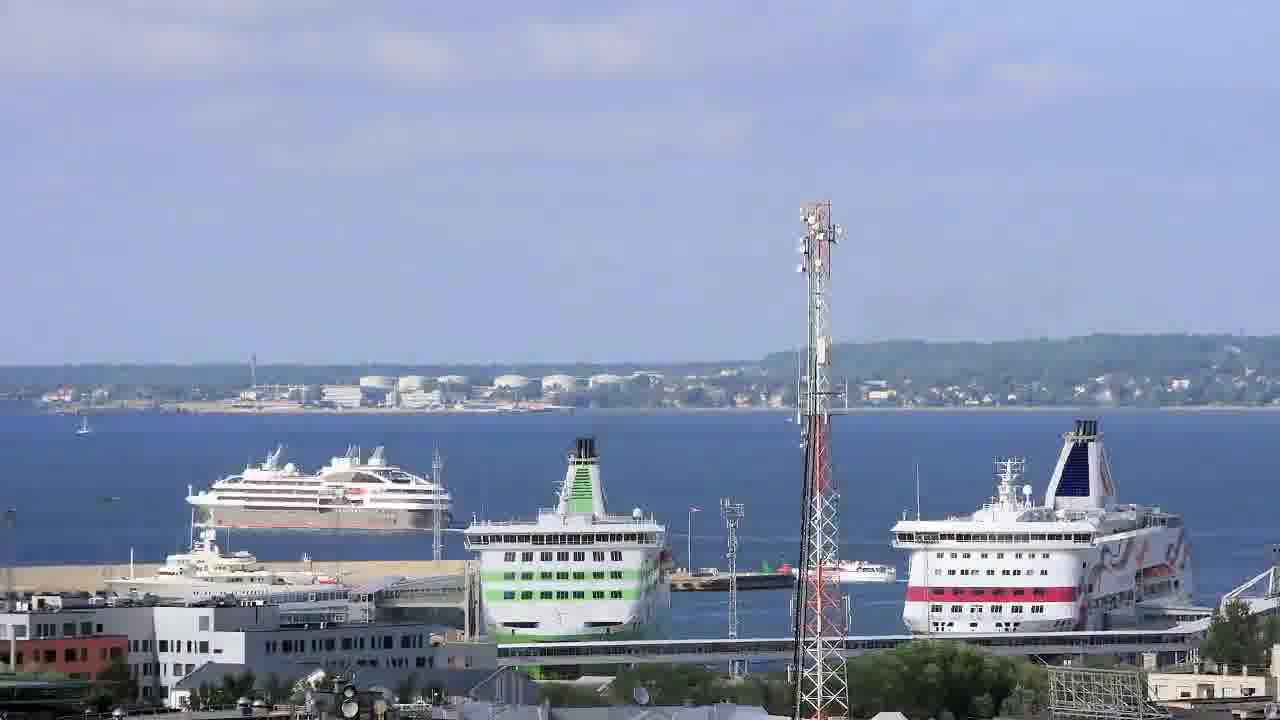type-1: (777, 548, 898, 594)
type-2: (66, 404, 103, 446)
type-3: (868, 415, 1225, 638), (436, 434, 694, 670), (182, 437, 464, 543), (84, 511, 353, 609)
